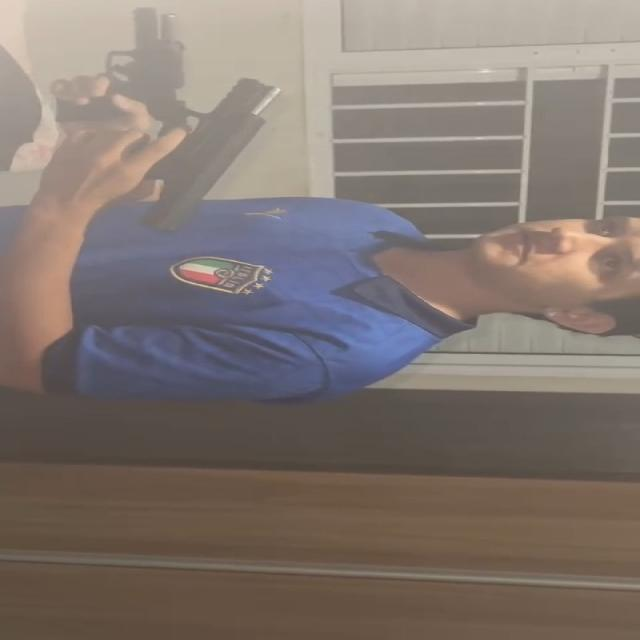gun: (144, 74, 288, 235), (102, 8, 192, 124)
